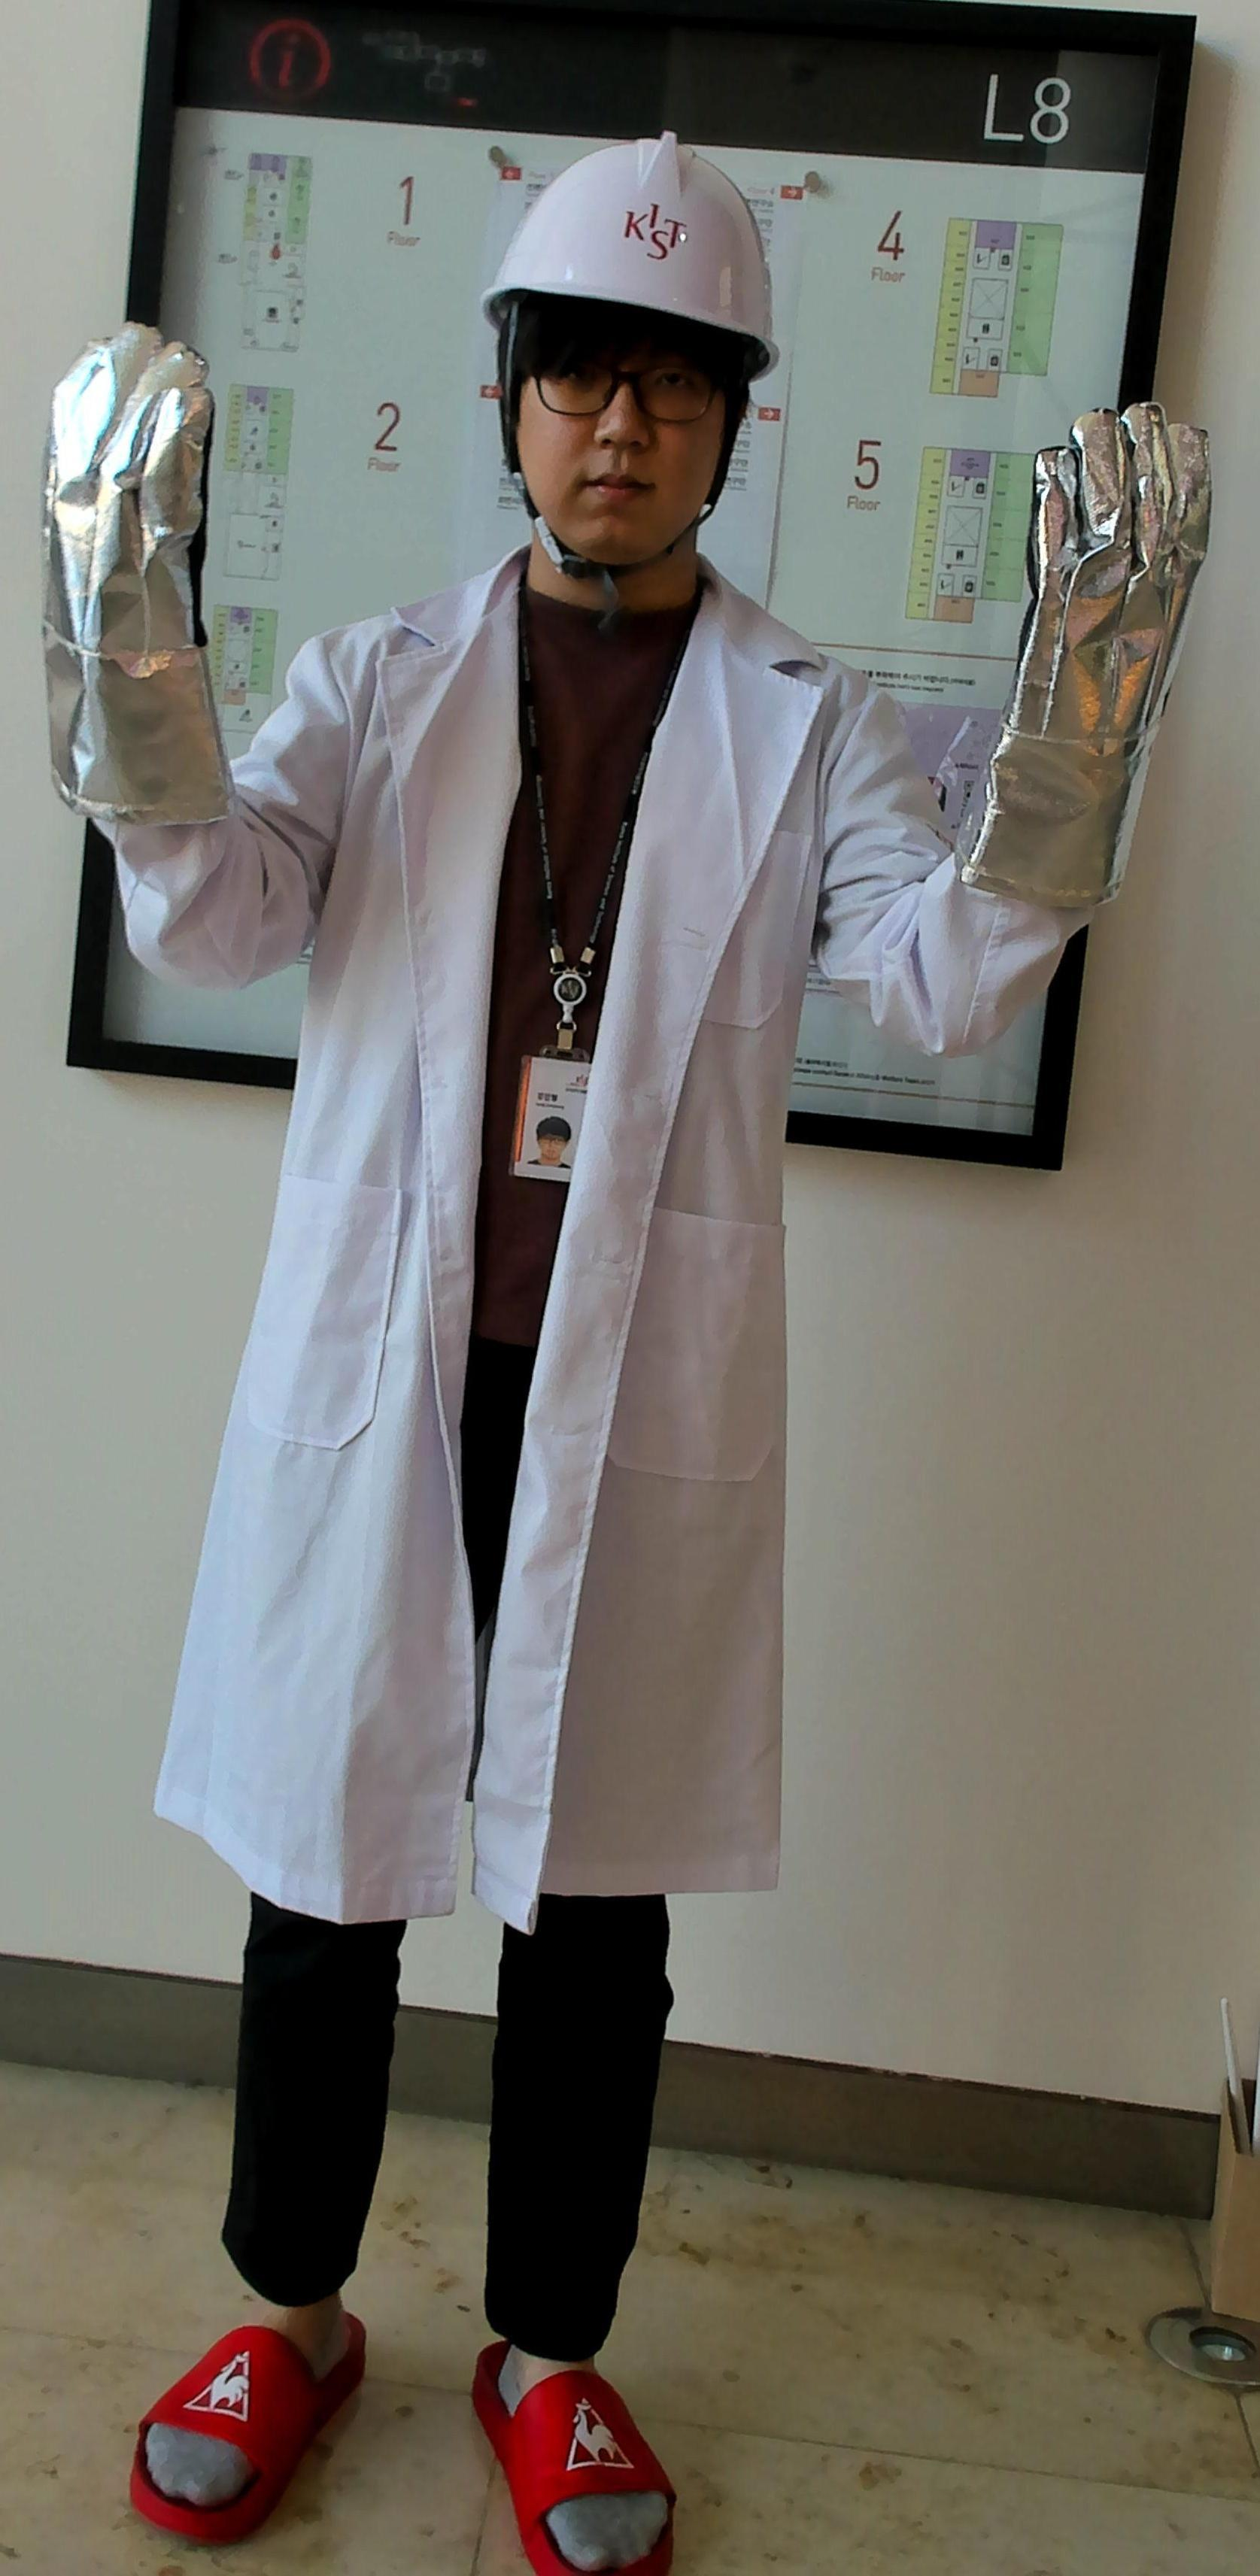lab_coat: (195, 678, 904, 1876)
